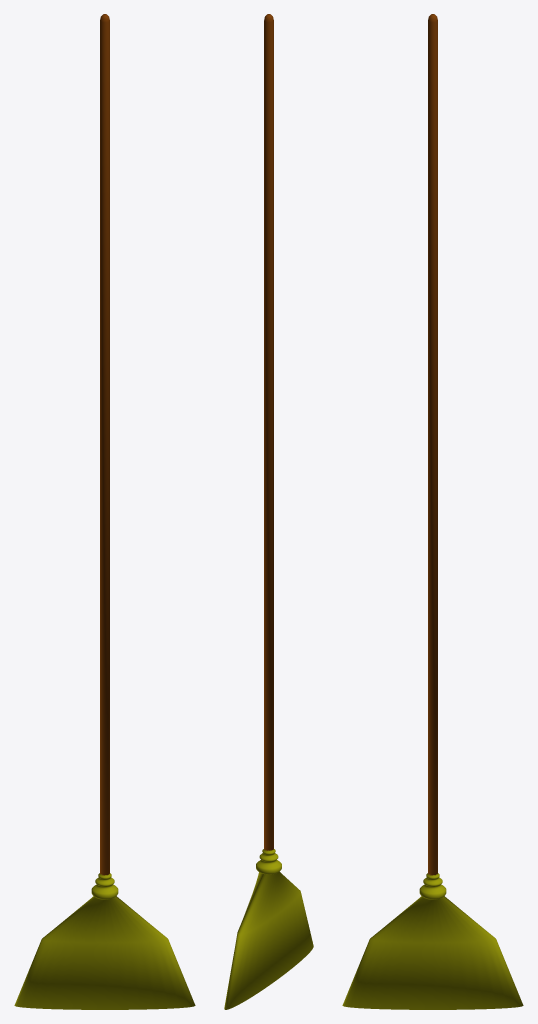
File: broom.fbx
The picture shows the model from 3 angles, left to right: view 1: azimuth 90°, elevation 25°; view 2: azimuth 150°, elevation 25°; view 3: azimuth 270°, elevation 25°; orthographic projection. The views are drawn at different scales.
Visible parts, largest first — view 1: Cylinder, Cylinder.001; view 2: Cylinder.001, Cylinder; view 3: Cylinder, Cylinder.001.
Part boxes in pixels (<box>): Cylinder: <box>14,873,195,1009</box>; Cylinder.001: <box>100,14,109,875</box>; Cylinder.001: <box>264,14,273,850</box>; Cylinder: <box>224,849,313,1009</box>; Cylinder: <box>342,873,523,1009</box>; Cylinder.001: <box>428,14,437,875</box>.
Size of the model in its own units: 533 by 21855 by 3621.
